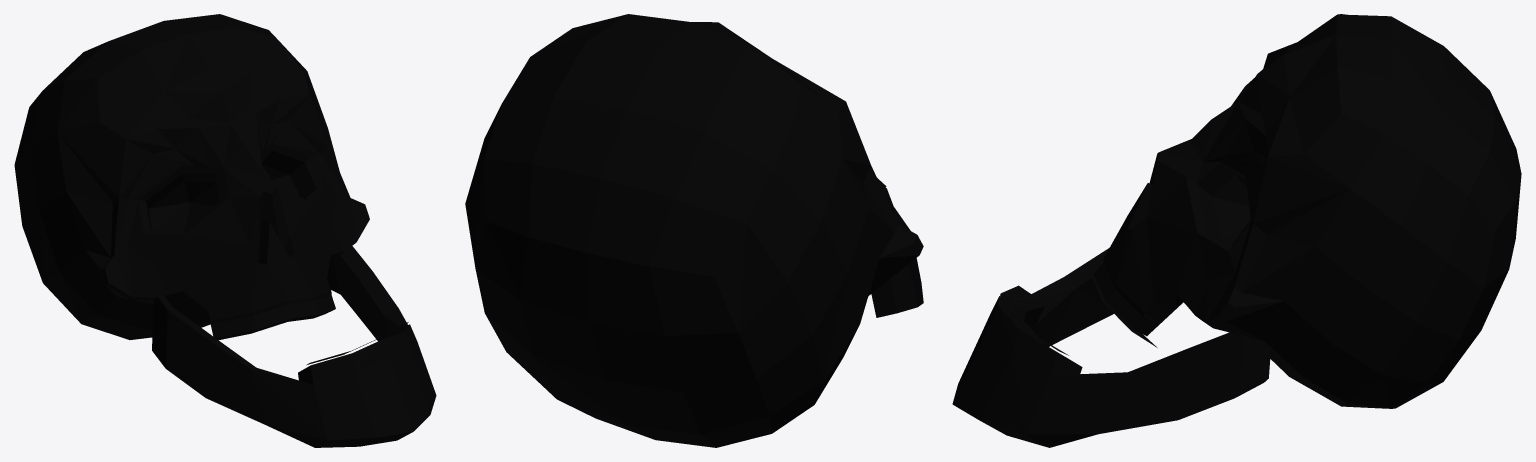
Rendered from skull.fbx.
The picture shows the model from 3 angles, left to right: view 1: azimuth 30°, elevation 25°; view 2: azimuth 150°, elevation 25°; view 3: azimuth 270°, elevation 25°; orthographic projection. The views are drawn at different scales.
Visible parts, largest first — view 1: node_id7, node_id9; view 2: node_id7, node_id9; view 3: node_id7, node_id9.
Part boxes in pixels (<box>): node_id7: <box>14,14,369,340</box>; node_id9: <box>152,246,436,447</box>; node_id7: <box>465,14,923,447</box>; node_id9: <box>871,178,923,317</box>; node_id7: <box>1092,14,1521,408</box>; node_id9: <box>952,248,1270,447</box>.
Bounding box in the file's own units: 0.4664 × 0.5015 × 0.7298.
2 materials, 2 textured.
